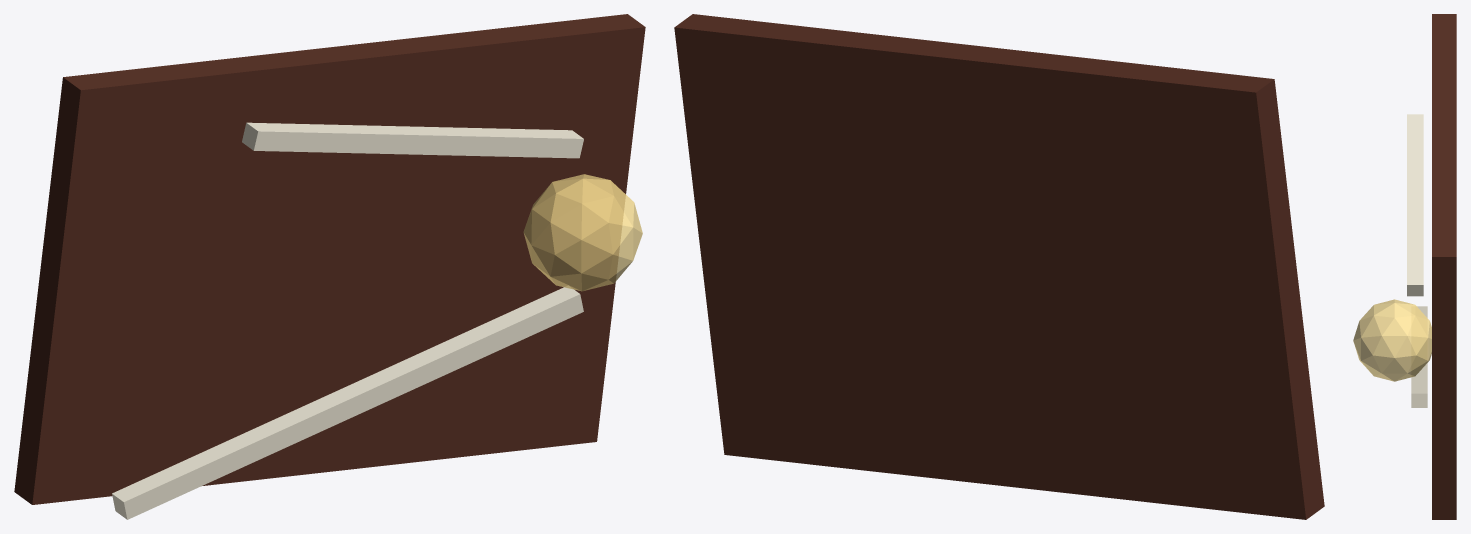
The model's file is 02_world_prop_polish.glb.
The picture shows the model from 3 angles, left to right: view 1: azimuth 30°, elevation 25°; view 2: azimuth 150°, elevation 25°; view 3: azimuth 270°, elevation 25°; orthographic projection. The views are drawn at different scales.
Visible parts, largest first — view 1: object_overlay_plate, edge_wear_a, glow_socket, edge_wear_b; view 2: object_overlay_plate; view 3: object_overlay_plate, glow_socket, edge_wear_b, edge_wear_a.
Part boxes in pixels (left/top/right/bottom): object_overlay_plate: left=14, top=14, right=645, bottom=504; edge_wear_a: left=112, top=286, right=583, bottom=519; glow_socket: left=523, top=174, right=642, bottom=291; edge_wear_b: left=242, top=122, right=583, bottom=158; object_overlay_plate: left=674, top=14, right=1324, bottom=519; object_overlay_plate: left=1432, top=14, right=1456, bottom=519; glow_socket: left=1353, top=299, right=1431, bottom=381; edge_wear_b: left=1407, top=114, right=1423, bottom=296; edge_wear_a: left=1411, top=306, right=1427, bottom=407.
Bounding box in the file's own units: 1.19 × 0.8819 × 0.25.
